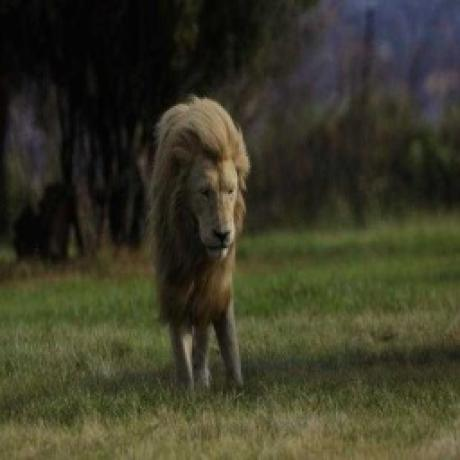Lion: (145, 90, 256, 399)
